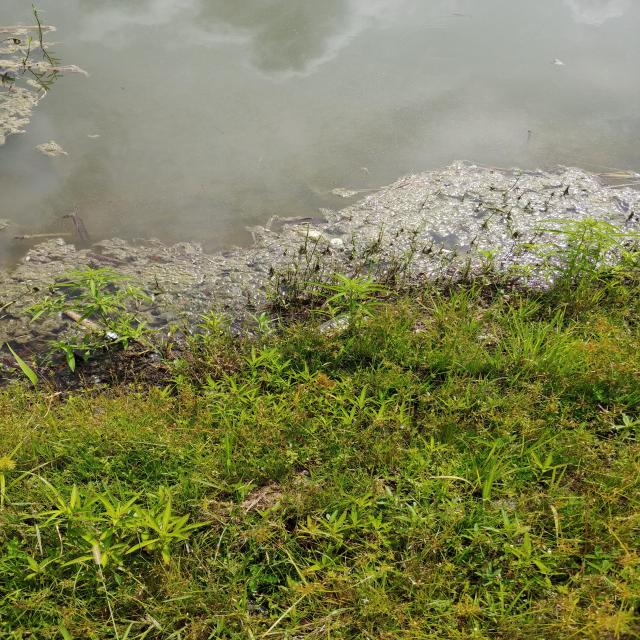litter: (302, 304, 371, 340), (96, 329, 123, 342)
